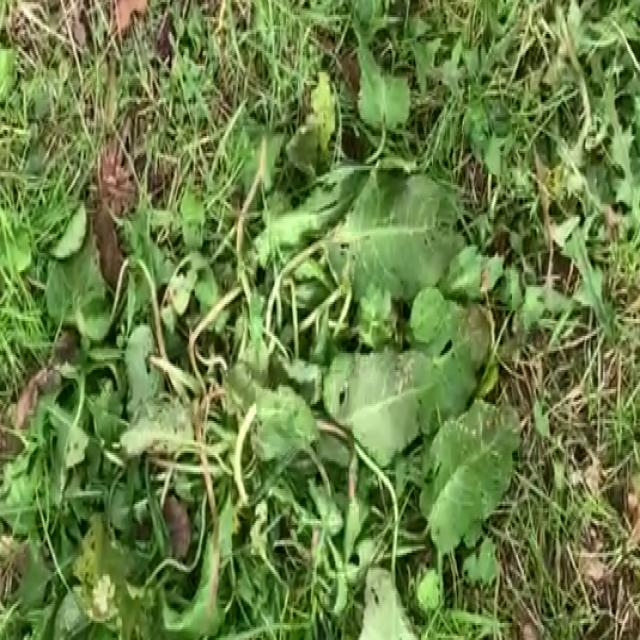organic waste: (26, 64, 531, 623)
